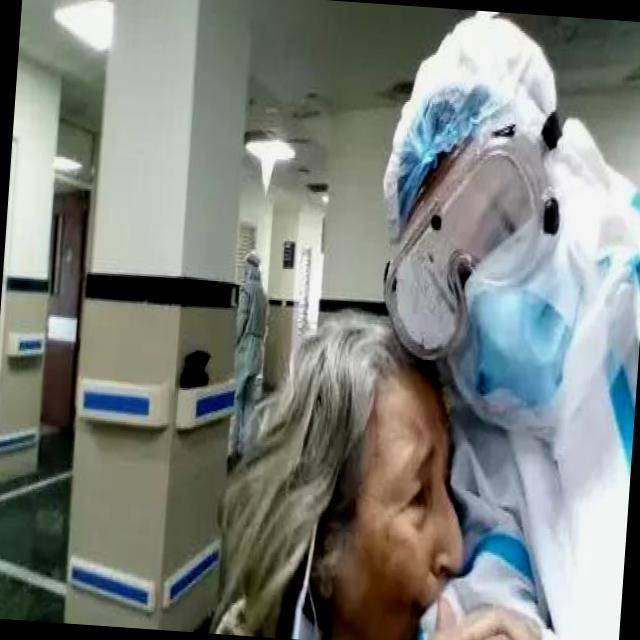mask: (448, 266, 570, 411)
no_gloves: (259, 328, 417, 443)
